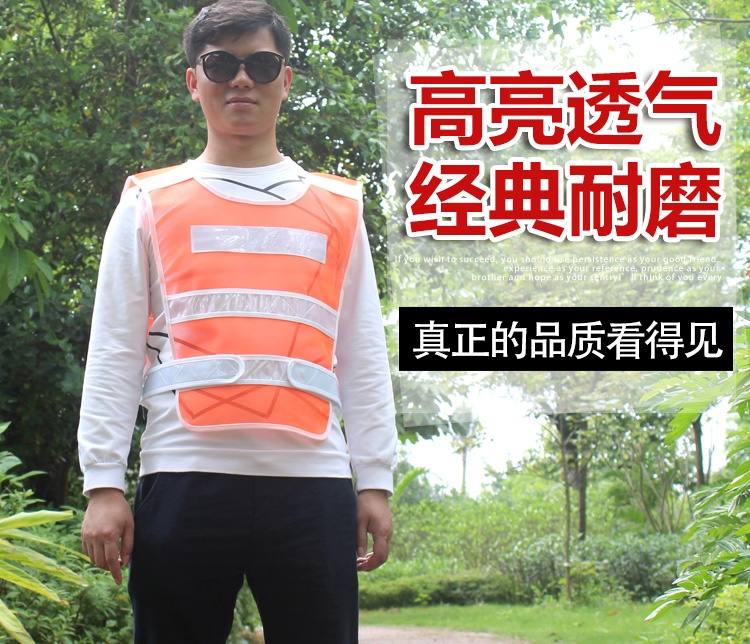person with partial safety: (73, 7, 399, 643)
safety vest: (132, 157, 363, 444)
